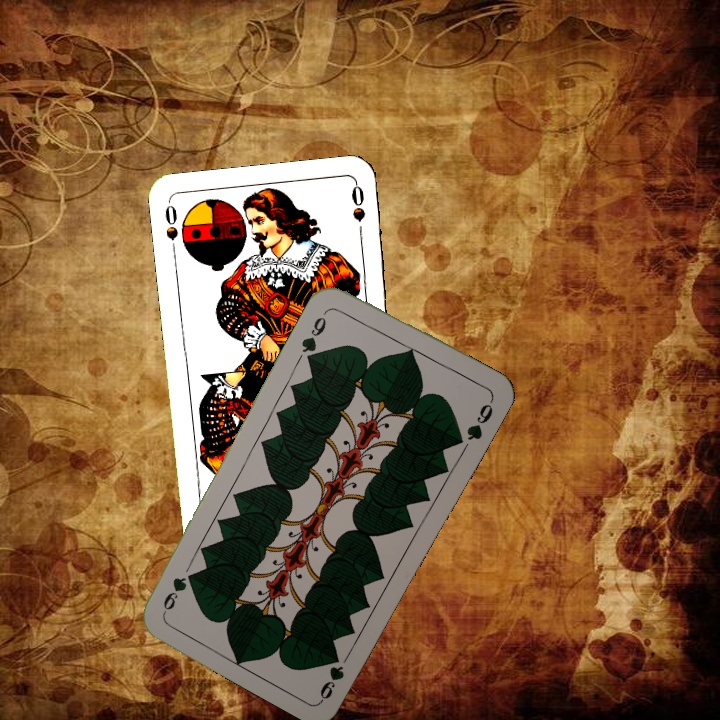G9: (297, 305, 332, 362), (316, 650, 347, 702)
SO: (161, 199, 181, 258)
